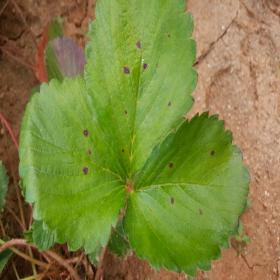Leaf Spot: (121, 109, 251, 277), (82, 0, 199, 184), (18, 74, 131, 254)
